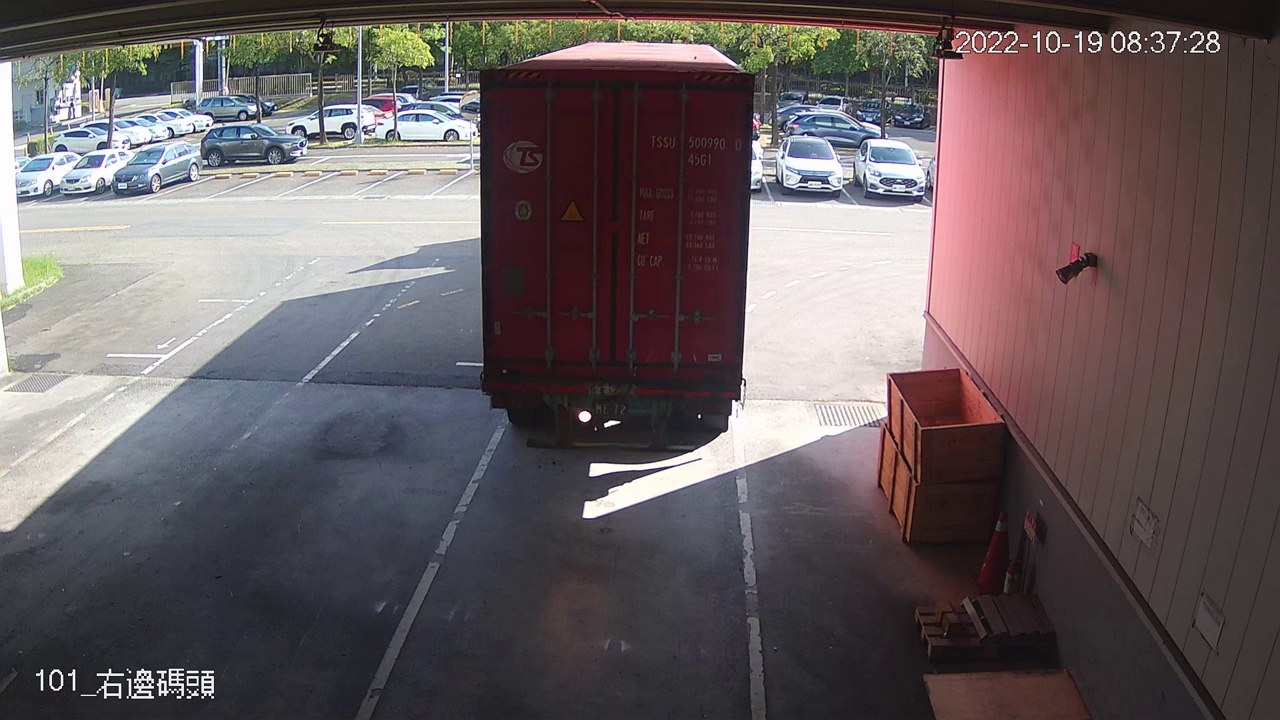container: (646, 130, 748, 169)
